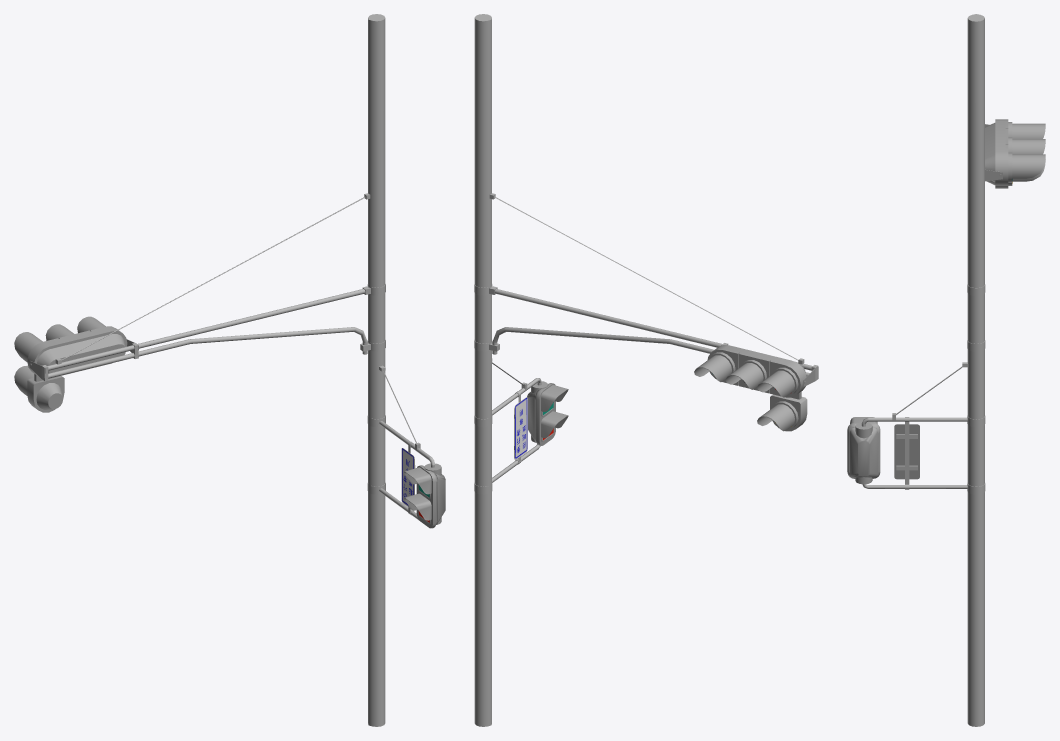
Rendered from Traffic1.fbx.
3 renders of one model, left to right at view 1: azimuth 30°, elevation 25°; view 2: azimuth 150°, elevation 25°; view 3: azimuth 270°, elevation 25°, orthographic.
Visible parts, largest first — view 1: intersection2:obj1; view 2: intersection2:obj1; view 3: intersection2:obj1.
Boxes of the visible parts, x1,y1,x2,y2 form: intersection2:obj1: (14,14,445,726); intersection2:obj1: (474,14,818,726); intersection2:obj1: (847,14,1045,726).
Size of the model in its own units: 57.38 by 113 by 28.62.
